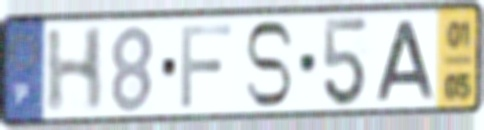5: (320, 15, 370, 110)
8: (109, 22, 156, 114)
A: (373, 18, 438, 103)
F: (178, 21, 235, 111)
H: (44, 23, 108, 117)
S: (242, 18, 296, 111)
